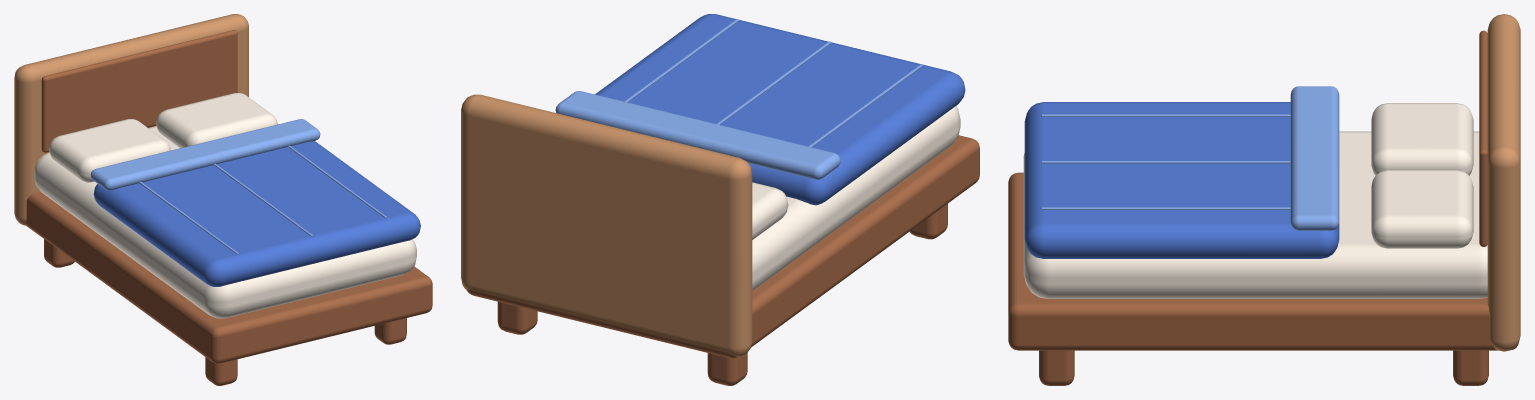
Rendered from bed.glb.
The picture shows the model from 3 angles, left to right: view 1: azimuth 30°, elevation 25°; view 2: azimuth 150°, elevation 25°; view 3: azimuth 270°, elevation 25°; orthographic projection. The views are drawn at different scales.
Visible parts, largest first — view 1: Blue duvet, Bed frame, Cream mattress, Headboard inset, Soft pillow (×2), Headboard, Folded duvet edge, Wooden leg (×3); view 2: Headboard, Blue duvet, Bed frame, Cream mattress, Folded duvet edge, Wooden leg (×3), Soft pillow, Duvet seam (×3); view 3: Blue duvet, Bed frame, Cream mattress, Soft pillow (×2), Headboard, Folded duvet edge, Wooden leg (×2), Duvet seam (×3), Headboard inset.
Part boxes in pixels (x1,y1,x2,y2): Blue duvet: (93, 141, 420, 286); Bed frame: (25, 191, 432, 363); Cream mattress: (34, 126, 416, 318); Headboard inset: (41, 30, 237, 152); Soft pillow (×2): (49, 93, 277, 182); Headboard: (14, 14, 248, 225); Folded duvet edge: (90, 119, 320, 190); Wooden leg (×3): (44, 239, 406, 385); Headboard: (461, 94, 752, 357); Blue duvet: (595, 14, 965, 205); Bed frame: (467, 135, 979, 358); Cream mattress: (752, 106, 960, 290); Folded duvet edge: (555, 91, 840, 179); Wooden leg (×3): (497, 203, 947, 385); Soft pillow: (752, 182, 788, 239); Duvet seam (×3): (624, 19, 923, 147); Blue duvet: (1024, 102, 1339, 258); Bed frame: (1008, 172, 1518, 350); Cream mattress: (1023, 131, 1487, 298); Soft pillow (×2): (1371, 103, 1473, 248); Headboard: (1487, 14, 1520, 351); Folded duvet edge: (1290, 86, 1339, 230); Wooden leg (×2): (1039, 350, 1488, 385); Duvet seam (×3): (1041, 114, 1290, 209); Headboard inset: (1479, 30, 1487, 246).
Size of the model in its own units: 0.6683 by 0.5337 by 1.
